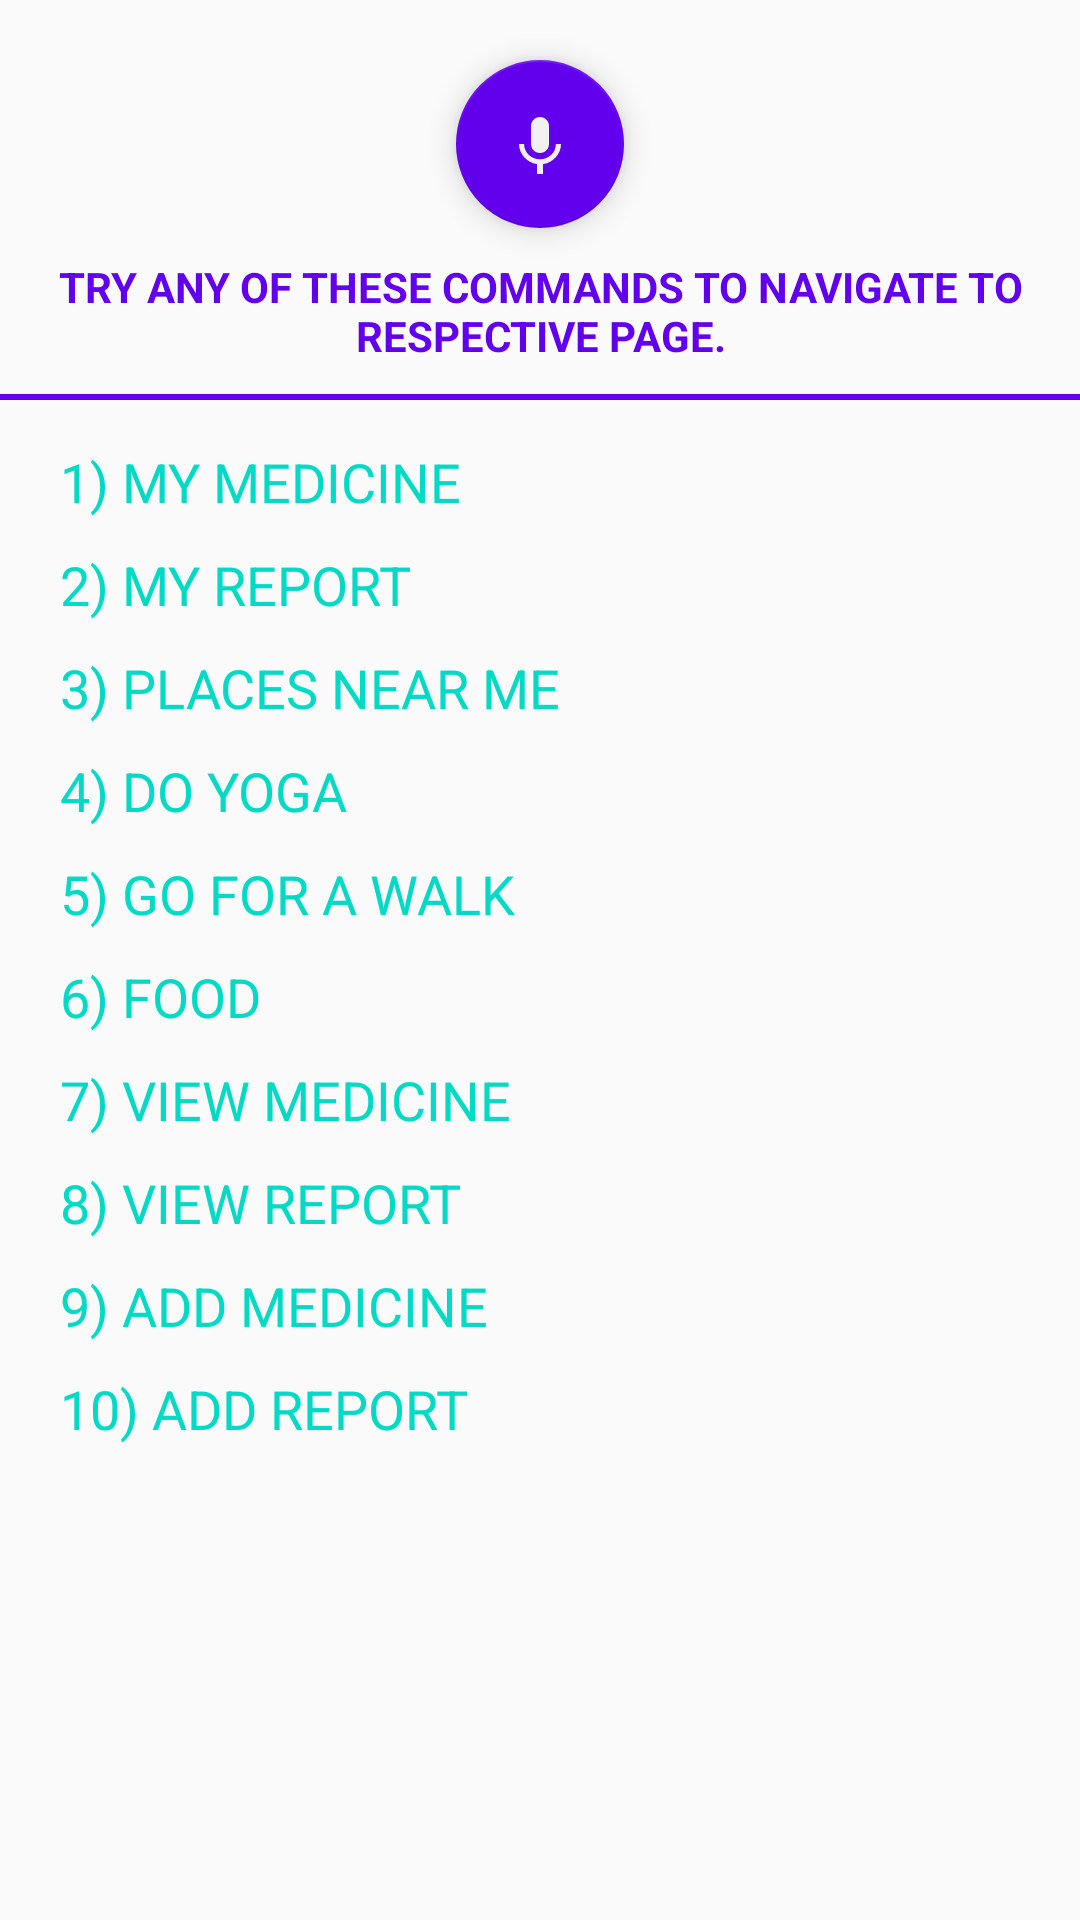

Icons on this 1080*1920 Android screen, each with its box as (x1, y1, x2, y2):
voice: (456, 60, 624, 228)
